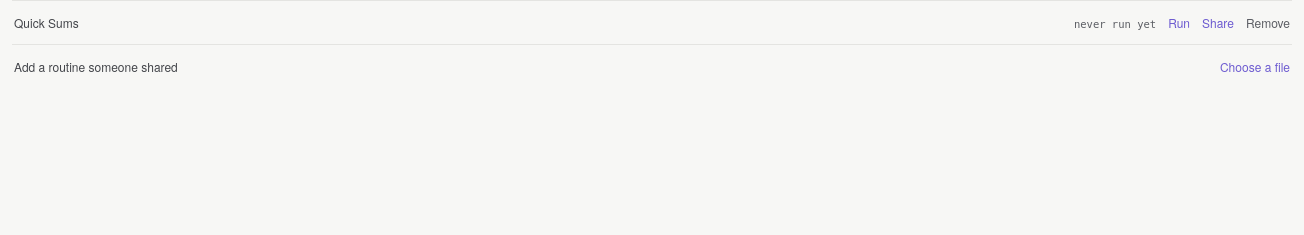
Test case: watching a routine run from Settings › shows each step as its notification arrives, then the answer
What coordinates should you click on to do the following:
click the button with aria-label "Run Quick Sums"
I would click on:
 (1179, 22)
Its box is [1168, 14, 1190, 31].
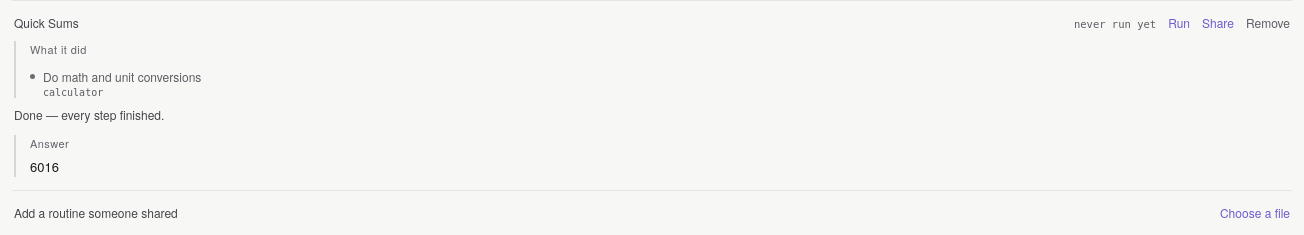
Expected: the text "Do math and unit conversions" is shown, [43, 68, 201, 85]
Expected: the text "calculator" is shown, [43, 87, 103, 98]
Expected: the text "Do math and unit conversions" is shown once, [43, 68, 201, 98]
